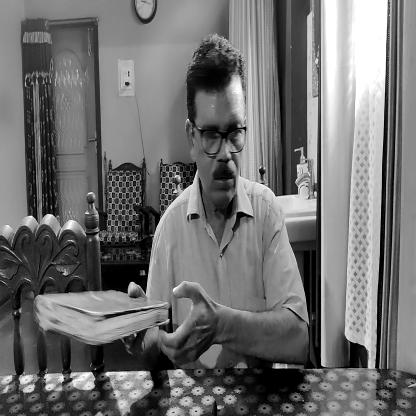Normal: (184, 39, 248, 216)
